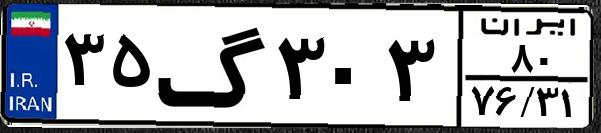0: (330, 28, 385, 110), (537, 27, 568, 80)
1: (560, 70, 590, 125)
3: (270, 28, 330, 110), (385, 28, 445, 110), (57, 26, 110, 100), (535, 70, 560, 125)
5: (110, 28, 156, 98)
6: (495, 70, 520, 125)
7: (470, 70, 495, 125)
8: (508, 27, 537, 80)
گ: (156, 12, 270, 120)
